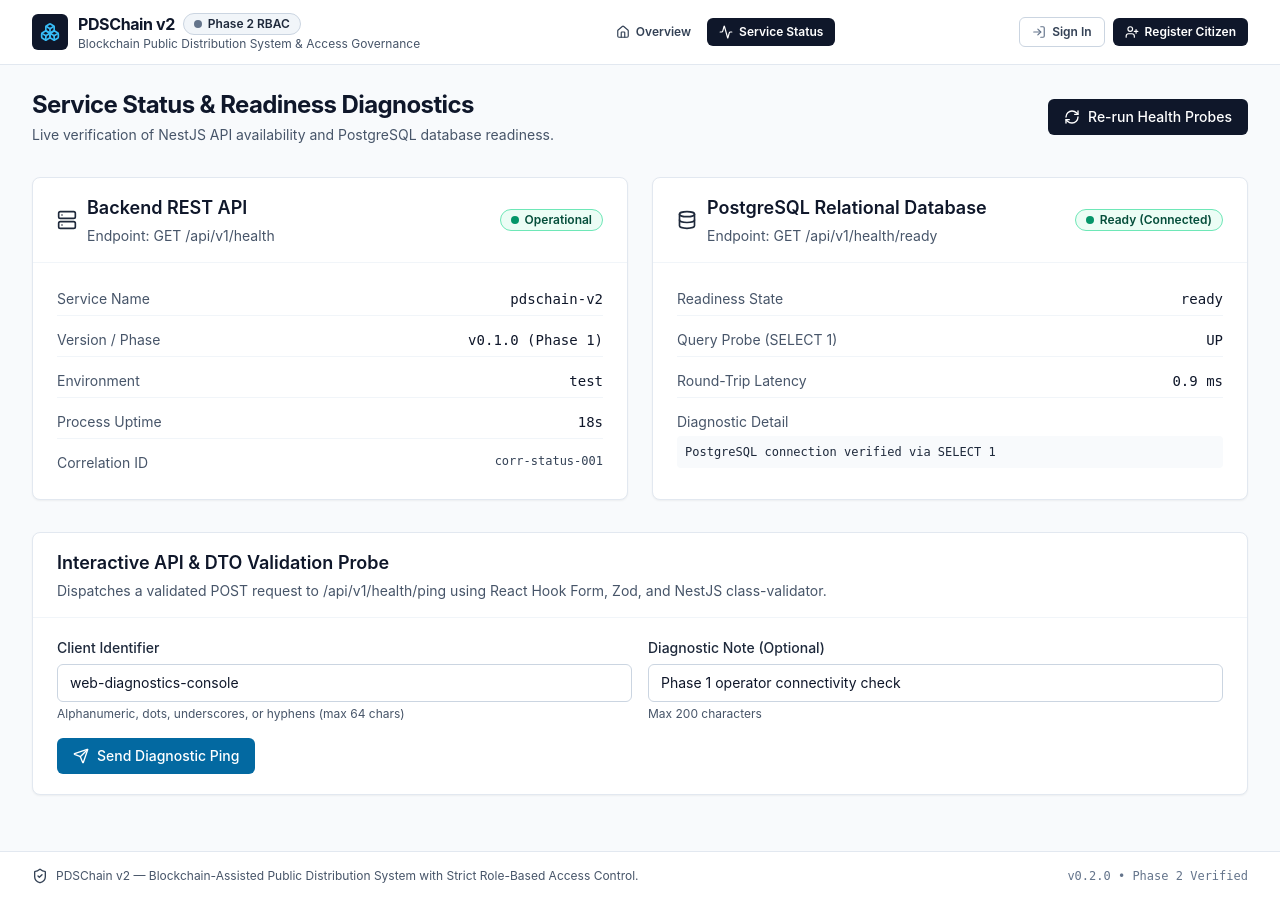
PDSChain v2 Frontend Foundation (Vitest + Testing Library) › renders the ServiceStatusPage and submits a validated diagnostic ping
expect the element with test id "service-status-grid" is shown: met, box [32,177,1248,500]
expect the element with test id "api-status-badge" reads "Operational": met, box [525,212,592,227]
Click the button "Send Diagnostic Ping" at (156, 756), box [57,738,256,774]
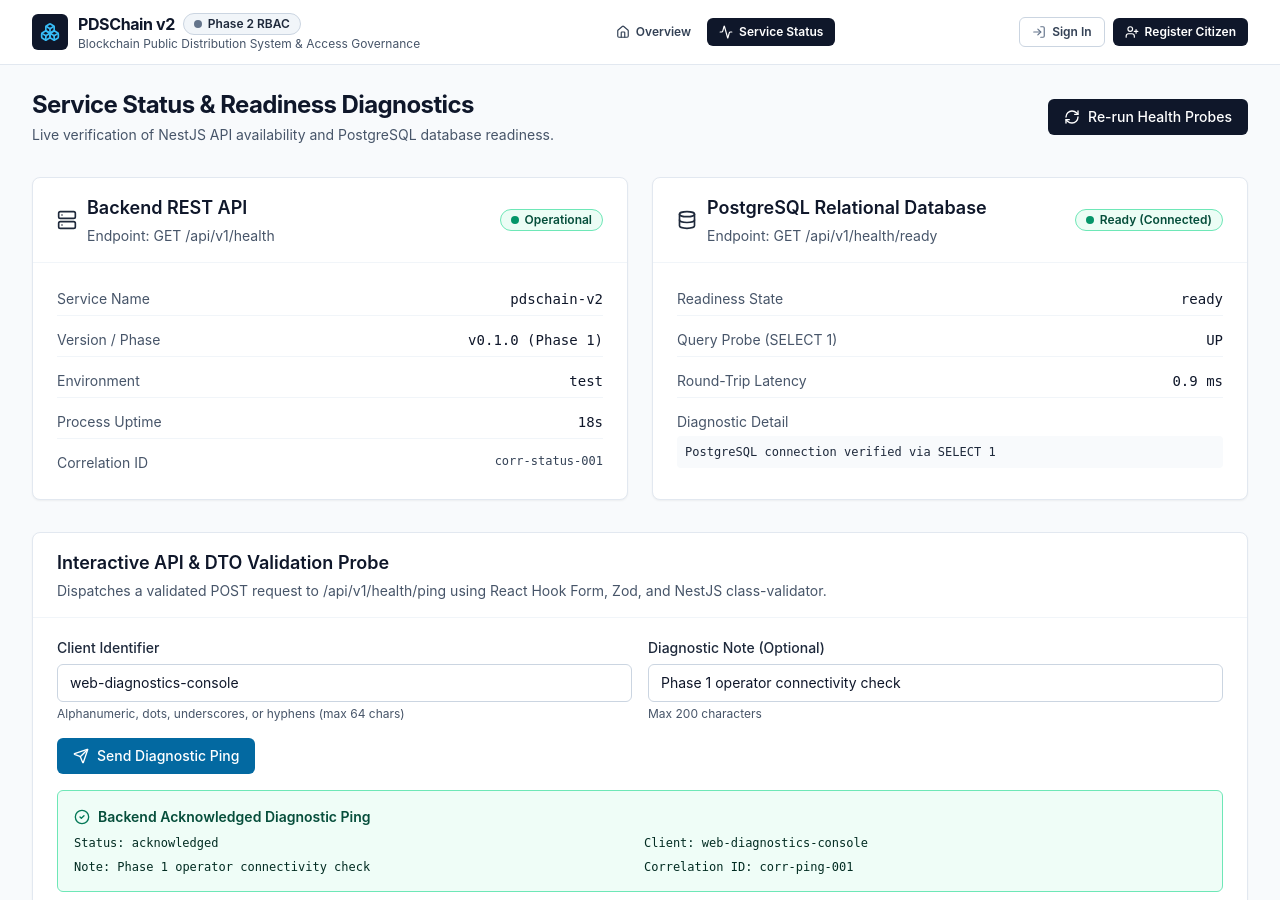
expect the element with test id "ping-ack-panel" is shown: met, box [57,790,1223,892]
